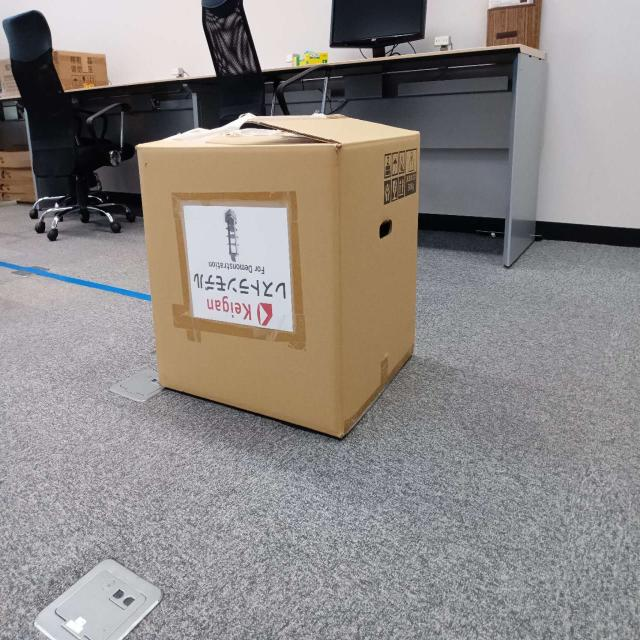box: (134, 125, 426, 450)
